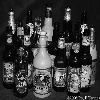beer: (10, 44, 34, 100)
